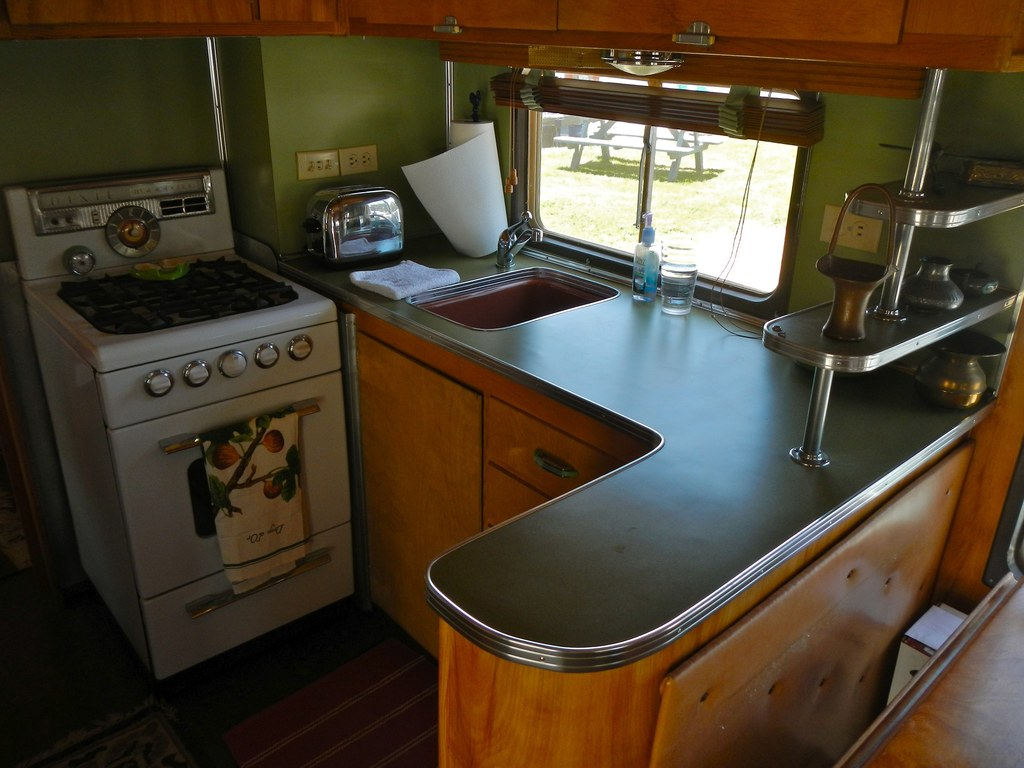Cabinetry: (406, 382, 1006, 767), (341, 304, 514, 669), (479, 383, 686, 525)
